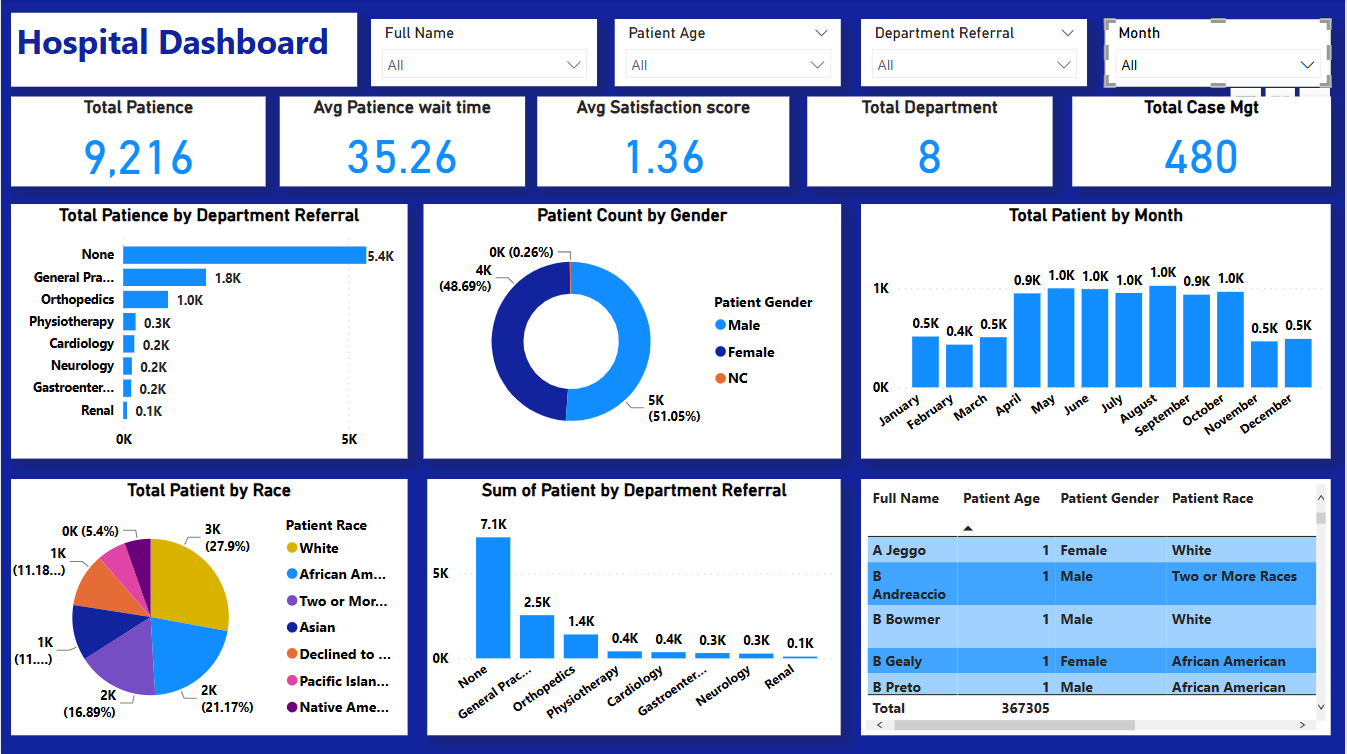

Layout of this report page (visuals, bound fields, positions):
{"tool":"powerbi","page":{"name":"Page 1","canvas":[1280,720],"ordinal":0},"visuals":[{"type":"textbox","box":[9.5,13.1,329.7,70.2],"z":0},{"type":"slicer","fields":{"Values":["Hospital ER_Data.Full Name"]},"box":[352.5,19,215.6,63.7],"z":1000},{"type":"slicer","fields":{"Values":["Hospital ER_Data.Patient Age"]},"box":[584.4,19,215.6,63.7],"z":2000},{"type":"slicer","fields":{"Values":["Hospital ER_Data.Department Referral"]},"box":[819,19,215.6,63.7],"z":3000},{"type":"slicer","fields":{"Values":["Hospital ER_Data.Date.Variation.Date Hierarchy.Month"]},"box":[1050.8,19,215.4,64.3],"z":4000},{"type":"card","title":"Total Patience","fields":{"Values":["Hospital ER_Data.Patient Count"]},"box":[9.5,92.8,242.8,85.7],"z":5000},{"type":"card","title":"Avg Patience wait time","fields":{"Values":["Hospital ER_Data.Patient Waittime"]},"box":[265.4,92.8,233.3,85.7],"z":6000},{"type":"card","title":"Avg Satisfaction score","fields":{"Values":["Hospital ER_Data.Average satisfaction score"]},"box":[510.5,92.8,240.4,85.7],"z":7000},{"type":"card","title":"Total Department","fields":{"Values":["Hospital ER_Data.Total Department"]},"box":[767.6,92.8,233.3,85.7],"z":8000},{"type":"card","title":"Total Case Mgt","fields":{"Values":["Hospital ER_Data.Patients Case Mgt"]},"box":[1019.9,92.8,246.3,85.7],"z":9000},{"type":"barChart","title":"Total Patience by Department Referral","fields":{"Category":["Hospital ER_Data.Department Referral"],"Y":["Hospital ER_Data.Patient Count"]},"box":[9.5,195.2,377.3,242.8],"z":10000},{"type":"donutChart","title":"Patient Count by Gender","fields":{"Y":["Hospital ER_Data.Patient Count"],"Category":["Hospital ER_Data.Patient Gender"]},"box":[402.2,195.2,397.5,242.8],"z":11000},{"type":"columnChart","title":"Total Patient by Month","fields":{"Y":["Hospital ER_Data.Patient Count"],"Category":["Hospital ER_Data.Date.Variation.Date Hierarchy.Month"]},"box":[818.8,195.2,447.5,242.8],"z":12000},{"type":"pieChart","title":"Total Patient by  Race","fields":{"Category":["Hospital ER_Data.Patient Race"],"Y":["Hospital ER_Data.Patient Count"]},"box":[9.5,457,377.3,244],"z":13000},{"type":"clusteredColumnChart","title":"Sum of Patient by Department Referral","fields":{"Y":["Hospital ER_Data.Patient Satisfaction Score"],"Category":["Hospital ER_Data.Department Referral"]},"box":[405.8,457,393.9,244],"z":14000},{"type":"tableEx","fields":{"Values":["Hospital ER_Data.Full Name","Hospital ER_Data.Patient Age","Hospital ER_Data.Patient Gender","Hospital ER_Data.Patient Race","Hospital ER_Data.Department Referral","Hospital ER_Data.Patient Satisfaction Score"]},"box":[818.8,457,447.5,244],"z":15000}]}

Visuals, with their boxes in screenshot pixels (x1, y1, x2, y2), scaled from the page's 1280x720 canvas onto the 1347x754 screenshot:
textbox: bbox(10, 14, 357, 87)
slicer - Hospital ER_Data.Full Name: bbox(371, 20, 598, 87)
slicer - Hospital ER_Data.Patient Age: bbox(615, 20, 842, 87)
slicer - Hospital ER_Data.Department Referral: bbox(862, 20, 1089, 87)
slicer - Hospital ER_Data.Date.Variation.Date Hierarchy.Month: bbox(1106, 20, 1332, 87)
"Total Patience" card: bbox(10, 97, 266, 187)
"Avg Patience wait time" card: bbox(279, 97, 525, 187)
"Avg Satisfaction score" card: bbox(537, 97, 790, 187)
"Total Department" card: bbox(808, 97, 1053, 187)
"Total Case Mgt" card: bbox(1073, 97, 1332, 187)
"Total Patience by Department Referral" barChart: bbox(10, 204, 407, 459)
"Patient Count by Gender" donutChart: bbox(423, 204, 842, 459)
"Total Patient by Month" columnChart: bbox(862, 204, 1333, 459)
"Total Patient by  Race" pieChart: bbox(10, 479, 407, 734)
"Sum of Patient by Department Referral" clusteredColumnChart: bbox(427, 479, 842, 734)
tableEx - Hospital ER_Data.Full Name x Hospital ER_Data.Patient Age: bbox(862, 479, 1333, 734)
